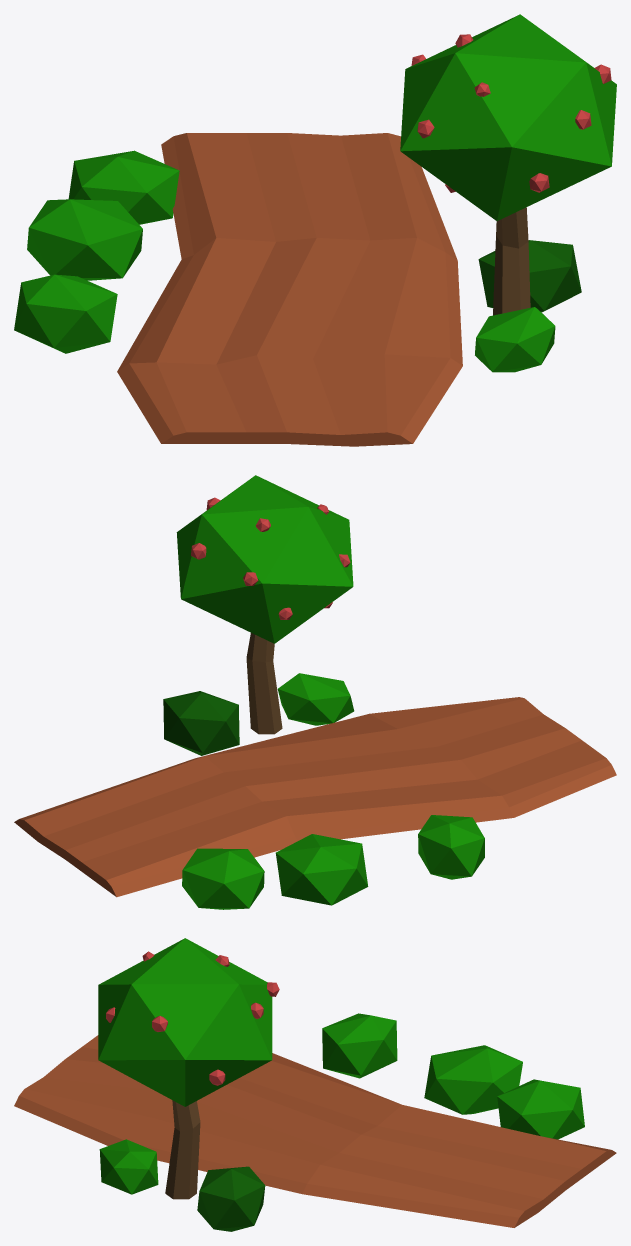
Rendered from street3_03_3.fbx.
3 views of the same model, one above another, from view 1: azimuth 30°, elevation 25°; view 2: azimuth 150°, elevation 25°; view 3: azimuth 270°, elevation 25° (orthographic). The views are drawn at different scales.
Visible parts, largest first — view 1: redRoad03.006, appleTree, Icosphere.018, Icosphere.019, Icosphere.021, Icosphere.023, Icosphere.020; view 2: redRoad03.006, appleTree, Icosphere.018, Icosphere.021, Icosphere.020, Icosphere.019, Icosphere.023; view 3: redRoad03.006, appleTree, Icosphere.018, Icosphere.021, Icosphere.019, Icosphere.020, Icosphere.023.
Boxes of the visible parts, left/top/right/bottom form: redRoad03.006: left=117, top=133, right=462, bottom=446; appleTree: left=400, top=14, right=616, bottom=315; Icosphere.018: left=27, top=199, right=142, bottom=280; Icosphere.019: left=14, top=274, right=117, bottom=353; Icosphere.021: left=68, top=150, right=179, bottom=224; Icosphere.023: left=475, top=307, right=555, bottom=372; Icosphere.020: left=478, top=240, right=581, bottom=312; redRoad03.006: left=14, top=697, right=616, bottom=897; appleTree: left=176, top=475, right=353, bottom=734; Icosphere.018: left=275, top=834, right=368, bottom=905; Icosphere.021: left=182, top=848, right=264, bottom=909; Icosphere.020: left=163, top=691, right=239, bottom=755; Icosphere.019: left=418, top=815, right=484, bottom=879; Icosphere.023: left=277, top=673, right=354, bottom=725; redRoad03.006: left=14, top=1035, right=616, bottom=1227; appleTree: left=98, top=938, right=272, bottom=1199; Icosphere.018: left=424, top=1045, right=522, bottom=1114; Icosphere.021: left=497, top=1079, right=584, bottom=1139; Icosphere.019: left=322, top=1013, right=397, bottom=1078; Icosphere.020: left=197, top=1166, right=265, bottom=1231; Icosphere.023: left=99, top=1139, right=158, bottom=1194.
Size of the model in its own units: 79.95 by 47.59 by 103.
